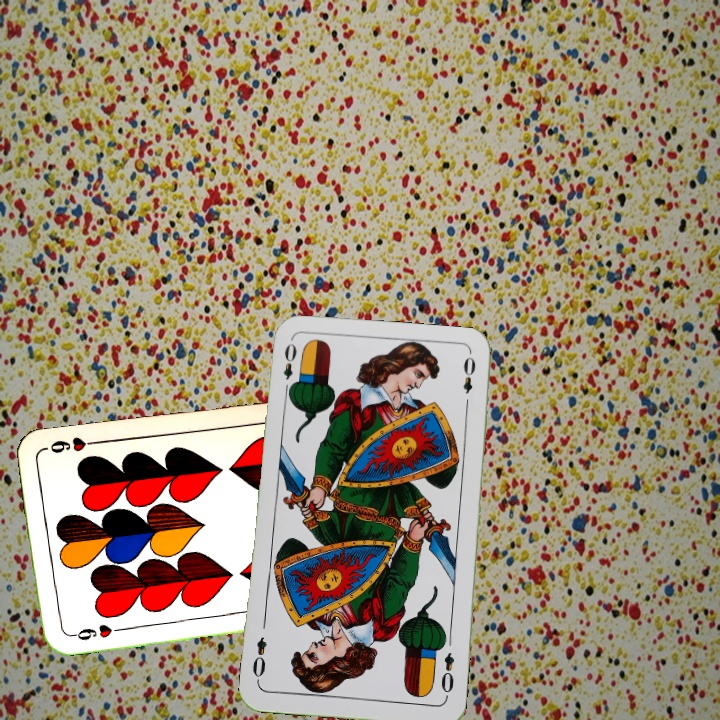EO: (279, 339, 299, 397), (437, 649, 457, 701)
H9: (64, 620, 123, 643)
